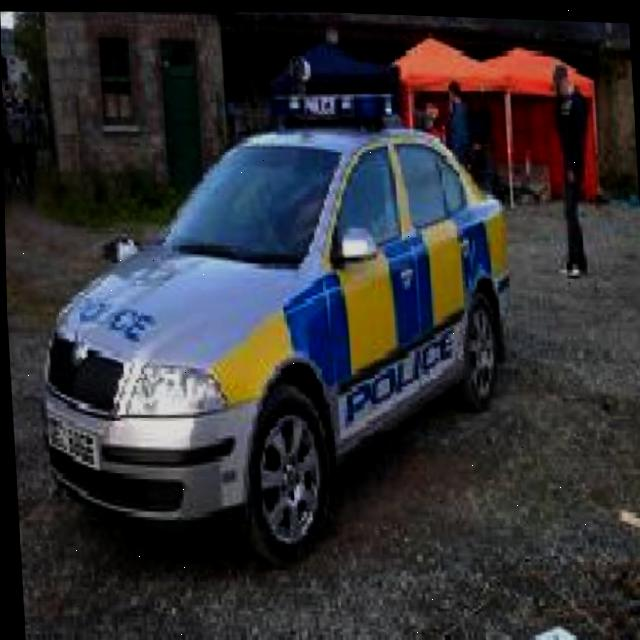emergency: (22, 104, 527, 580)
